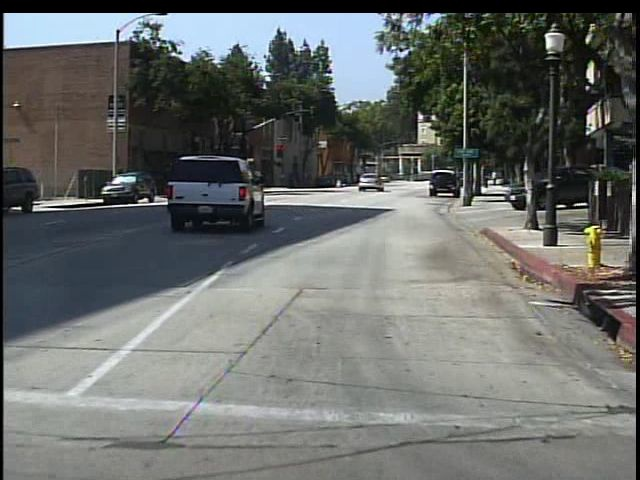person: (331, 170, 347, 190), (490, 169, 501, 188)
